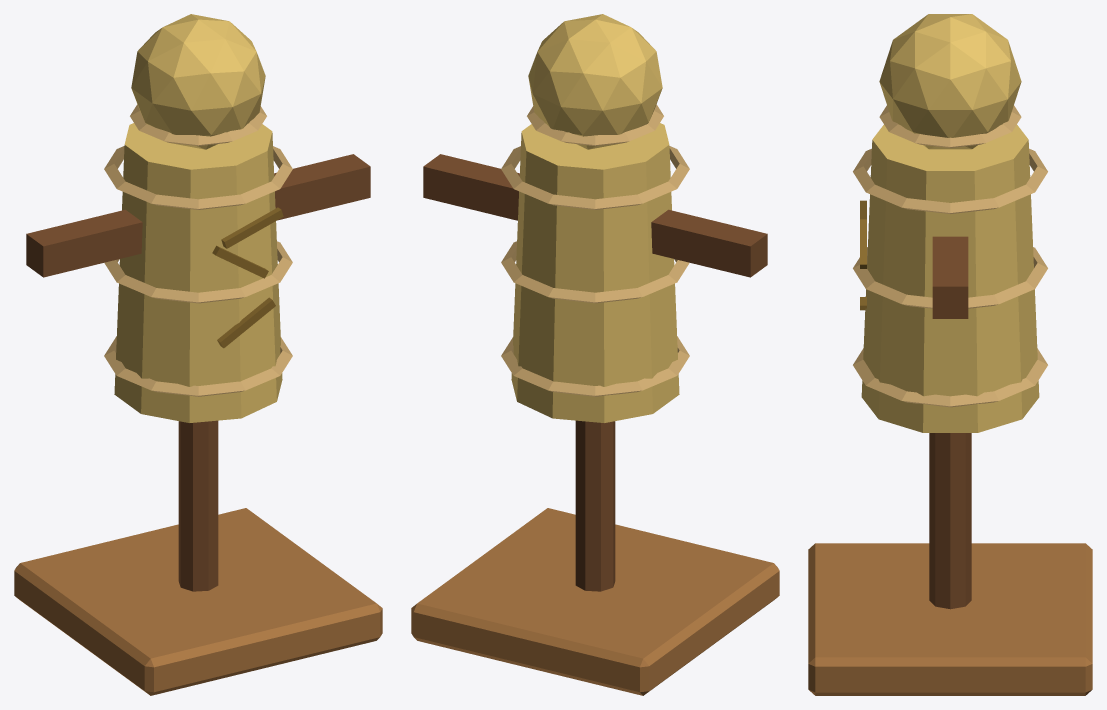
Rendered from vil_dummy_v01.glb.
3 views of the same model, side by side, from view 1: azimuth 30°, elevation 25°; view 2: azimuth 150°, elevation 25°; view 3: azimuth 270°, elevation 25° (orthographic). The views are drawn at different scales.
Parts seen in each view (by area): view 1: dummy; view 2: dummy; view 3: dummy.
Boxes of the visible parts, left/top/right/bottom form: dummy: left=14, top=14, right=382, bottom=695; dummy: left=411, top=14, right=779, bottom=695; dummy: left=808, top=14, right=1092, bottom=695.
Size of the model in its own units: 1.1 by 1.93 by 0.8.
